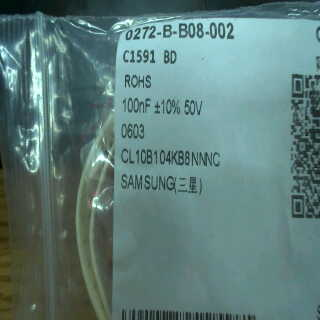100nF: (121, 94, 153, 116)
